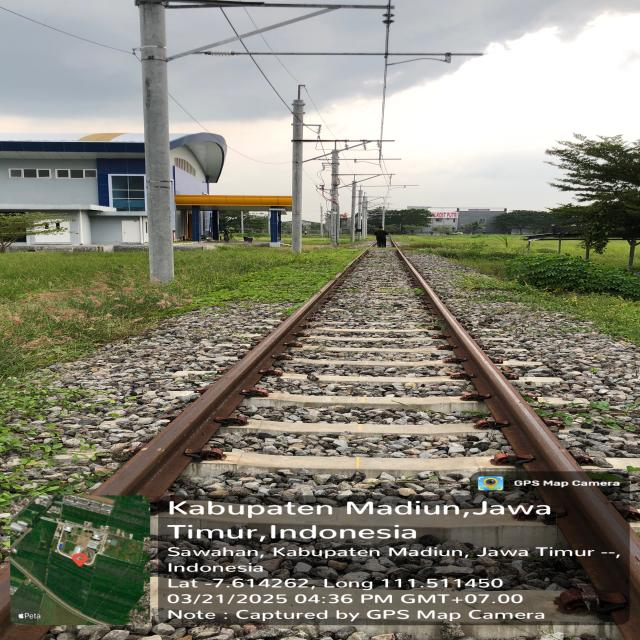rail-detection: (396, 250, 640, 640), (91, 275, 340, 497)
